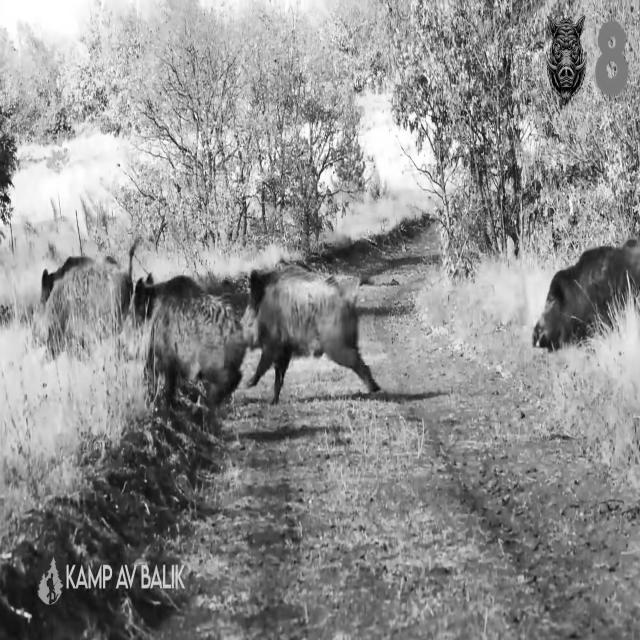boar: (40, 257, 378, 402), (242, 264, 379, 402), (532, 239, 639, 349)
